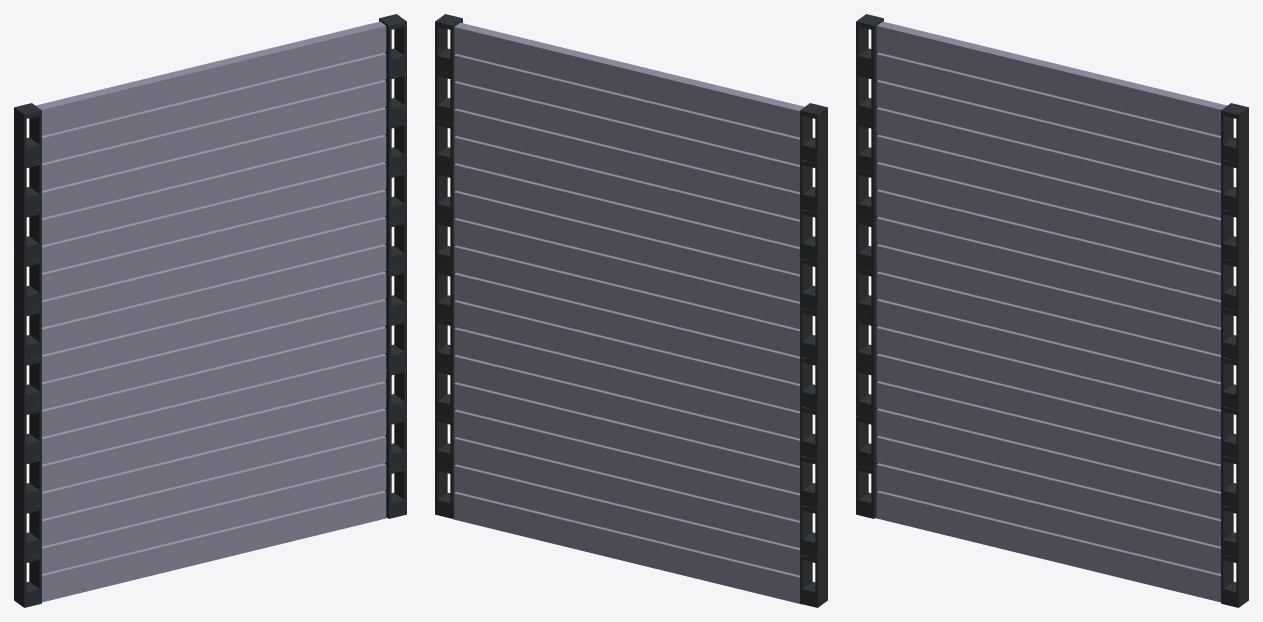
File: SM_shelf_background.fbx
3 renders of one model, left to right at view 1: azimuth 30°, elevation 25°; view 2: azimuth 150°, elevation 25°; view 3: azimuth 330°, elevation 25°, orthographic.
Parts seen in each view (by area): view 1: shelf_background; view 2: shelf_background; view 3: shelf_background.
Part boxes in pixels (bbox=[...]): shelf_background: bbox=[14, 14, 406, 607]; shelf_background: bbox=[435, 14, 827, 607]; shelf_background: bbox=[856, 14, 1248, 607].
Bounding box in the file's own units: 212 × 262 × 9.82.
